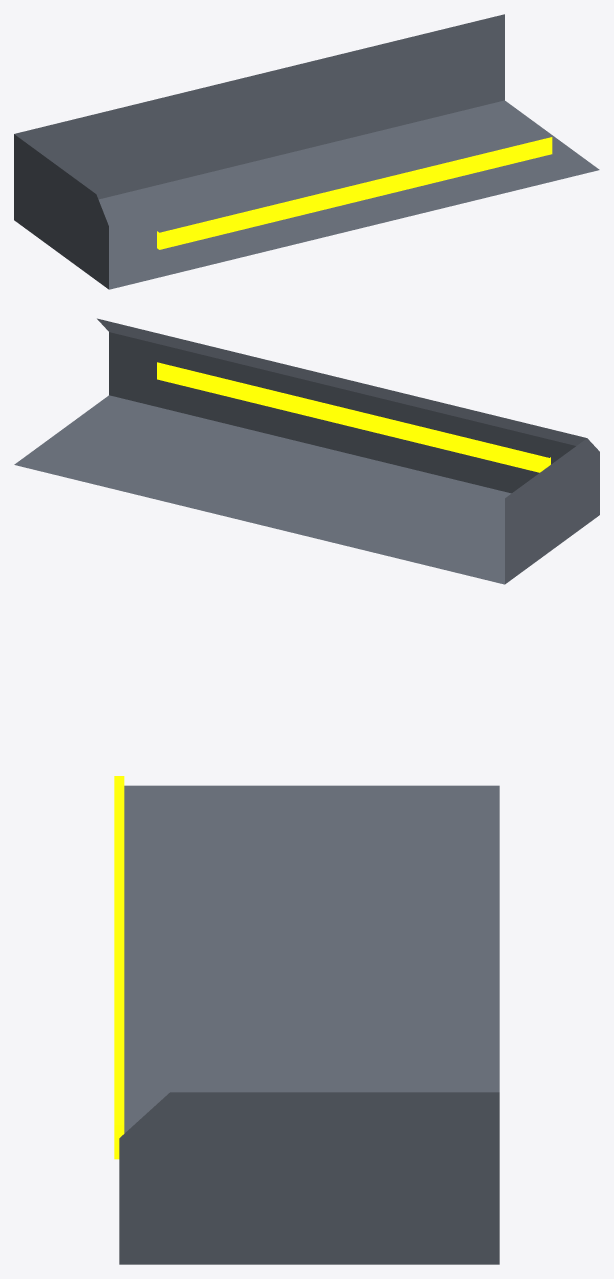
File: ext_curb_segment_894mm.glb
3 views of the same model, one above another, from view 1: azimuth 30°, elevation 25°; view 2: azimuth 150°, elevation 25°; view 3: azimuth 270°, elevation 25° (orthographic). The views are drawn at different scales.
Parts seen in each view (by area): view 1: Curb, Reflector_Strip; view 2: Curb, Reflector_Strip; view 3: Curb, Reflector_Strip.
Part boxes in pixels (x1,y1,x2,y2): Curb: [14, 14, 599, 289]; Reflector_Strip: [157, 137, 552, 249]; Curb: [14, 318, 599, 584]; Reflector_Strip: [157, 362, 550, 472]; Curb: [119, 785, 499, 1264]; Reflector_Strip: [114, 776, 124, 1159].
Bounding box in the file's own units: 0.894 × 0.15 × 0.304.
